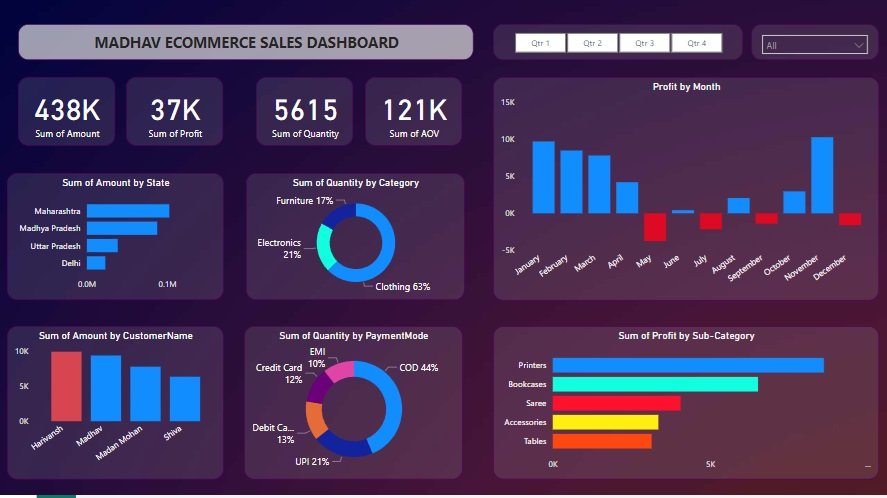

Layout of this report page (visuals, bound fields, positions):
{"tool":"powerbi","page":{"name":"Page 1","canvas":[1280,720],"ordinal":0},"visuals":[{"type":"textbox","box":[25.5,41.1,656.2,52.4],"z":0},{"type":"columnChart","title":"Profit by Month","fields":{"Category":["Orders.Order Date.Variation.Date Hierarchy.Month"],"Y":["Details.Profit"]},"box":[710.1,117.6,555.6,321.7],"z":1},{"type":"barChart","fields":{"Category":["Details.Sub-Category"],"Y":["Details.Profit"]},"box":[710.1,476.2,555.6,221.1],"z":2},{"type":"donutChart","fields":{"Category":["Details.Category"],"Y":["Details.Quantity"]},"box":[354.3,256.5,314.6,182.8],"z":3},{"type":"donutChart","fields":{"Y":["Details.Quantity"],"Category":["Details.PaymentMode"]},"box":[351.5,476.2,314.6,221.1],"z":4},{"type":"card","fields":{"Values":["Details.Amount"]},"box":[25.5,117.6,140.3,99.2],"z":5},{"type":"card","fields":{"Values":["Details.Profit"]},"box":[181.4,117.6,140.3,99.2],"z":6},{"type":"card","fields":{"Values":["Details.Quantity"]},"box":[368.5,117.6,140.3,99.2],"z":7},{"type":"card","fields":{"Values":["Details.ADV"]},"box":[525.8,117.6,140.3,99.2],"z":8},{"type":"barChart","fields":{"Category":["Orders.State"],"Y":["Details.Amount"]},"box":[9.9,256.5,311.8,182.8],"z":9},{"type":"columnChart","fields":{"Category":["Orders.CustomerName"],"Y":["Details.Amount"]},"box":[9.9,476.2,311.8,221.1],"z":10},{"type":"slicer","fields":{"Values":["Orders.Order Date.Variation.Date Hierarchy.Quarter"]},"box":[710.1,41.1,360,52.4],"z":11},{"type":"slicer","fields":{"Values":["Orders.State"]},"box":[1081.4,41.1,184.3,52.4],"z":12}]}

Visuals, with their boxes in screenshot pixels (x1, y1, x2, y2), scaled from the page's 1280x720 canvas onto the 887x498 screenshot:
textbox: {"x1": 18, "y1": 28, "x2": 472, "y2": 65}
"Profit by Month" columnChart: {"x1": 492, "y1": 81, "x2": 877, "y2": 304}
barChart - Details.Sub-Category x Details.Profit: {"x1": 492, "y1": 329, "x2": 877, "y2": 482}
donutChart - Details.Category x Details.Quantity: {"x1": 246, "y1": 177, "x2": 464, "y2": 304}
donutChart - Details.Quantity x Details.PaymentMode: {"x1": 244, "y1": 329, "x2": 462, "y2": 482}
card - Details.Amount: {"x1": 18, "y1": 81, "x2": 115, "y2": 150}
card - Details.Profit: {"x1": 126, "y1": 81, "x2": 223, "y2": 150}
card - Details.Quantity: {"x1": 255, "y1": 81, "x2": 353, "y2": 150}
card - Details.ADV: {"x1": 364, "y1": 81, "x2": 462, "y2": 150}
barChart - Orders.State x Details.Amount: {"x1": 7, "y1": 177, "x2": 223, "y2": 304}
columnChart - Orders.CustomerName x Details.Amount: {"x1": 7, "y1": 329, "x2": 223, "y2": 482}
slicer - Orders.Order Date.Variation.Date Hierarchy.Quarter: {"x1": 492, "y1": 28, "x2": 742, "y2": 65}
slicer - Orders.State: {"x1": 749, "y1": 28, "x2": 877, "y2": 65}
